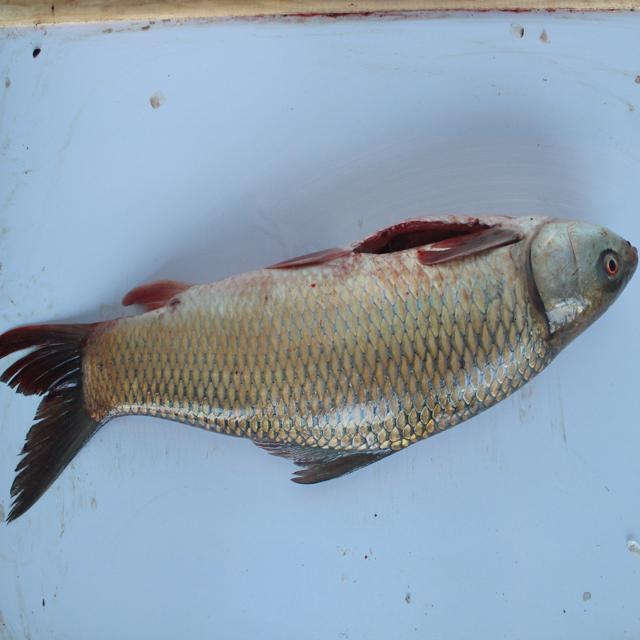Grass Carp: (5, 205, 639, 530)
